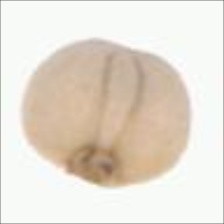L5: (94, 41, 143, 152), (63, 143, 133, 186)
L6: (16, 33, 197, 193)
